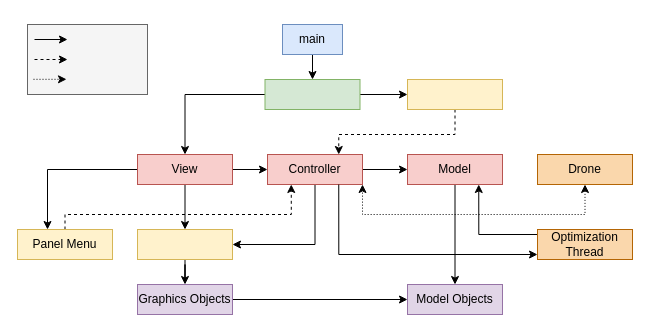
The diagram is 650 pixels wide and 332 high, and some of its shapes have lost their labels. Here are the shapes that lost their labels. From the top down, the centre of each, then its label:
At pixel 87 59: "Direct Access Signals/Slots UDP".
At pixel 312 94: "Main Window".
At pixel 454 94: "Window Menu".
At pixel 184 244: "Canvas".
